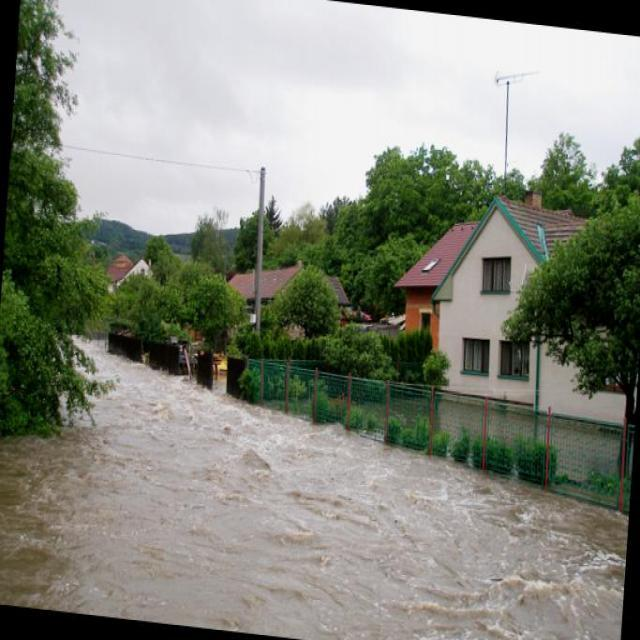flood: (0, 307, 635, 638)
